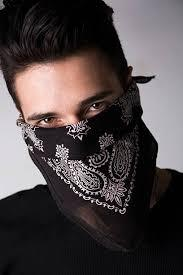scarf-kerchief: (9, 67, 164, 258)
